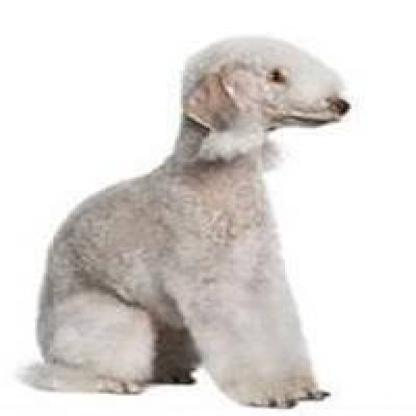Bedlington Terrier: (38, 16, 367, 416)
